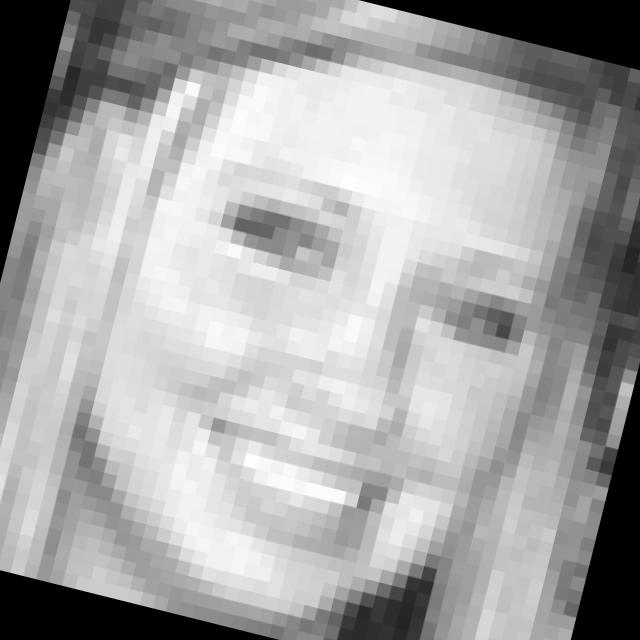happy: (118, 142, 561, 601)
